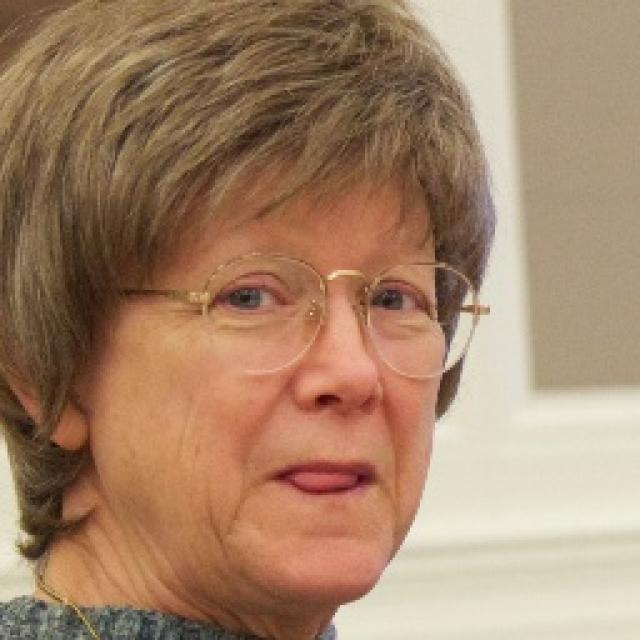earlobe: (0, 300, 89, 451)
